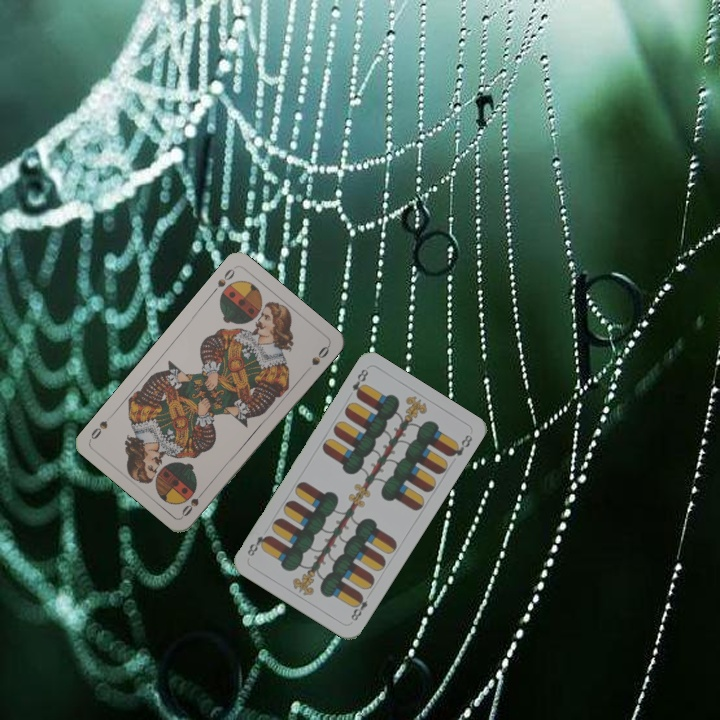E8: (348, 365, 371, 400), (347, 590, 370, 624)
SO: (178, 485, 209, 519), (207, 264, 238, 297)
